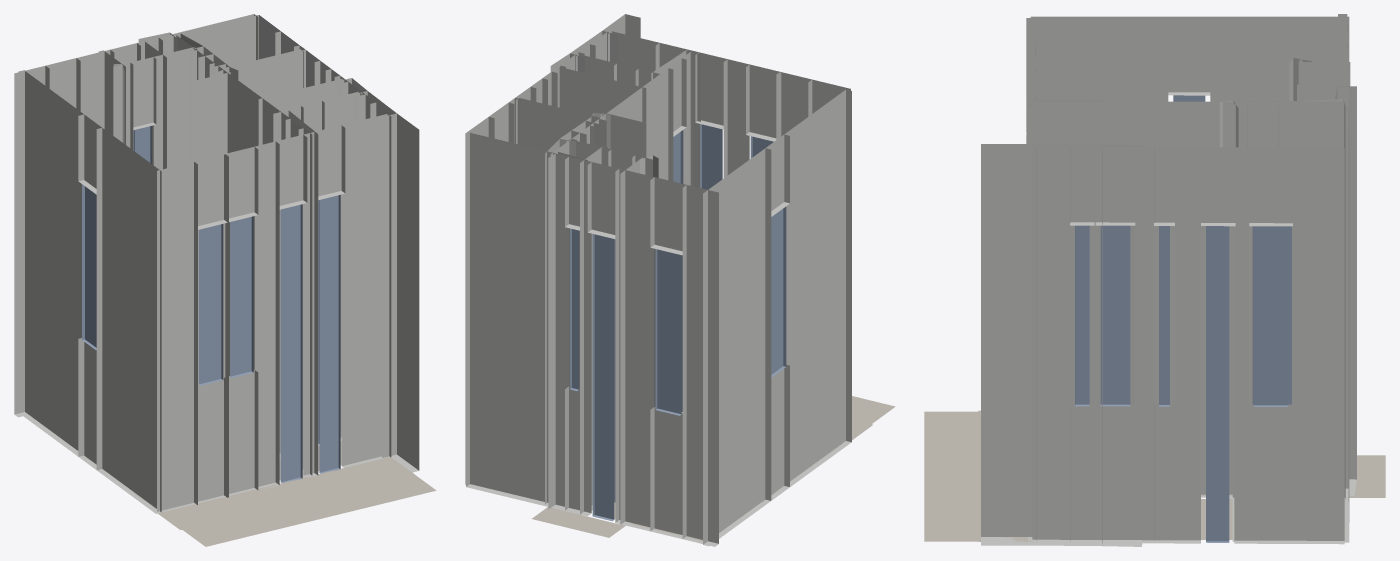
File: plan2scene_vector_house.glb
The picture shows the model from 3 angles, left to right: view 1: azimuth 30°, elevation 25°; view 2: azimuth 150°, elevation 25°; view 3: azimuth 270°, elevation 25°; orthographic projection. The views are drawn at different scales.
Visible parts, largest first — view 1: walls, doors_windows, floor; view 2: walls, doors_windows, floor; view 3: walls, doors_windows, floor.
Boxes of the visible parts, x1,y1,x2,y2 form: walls: (14, 14, 419, 513); doors_windows: (82, 126, 340, 482); floor: (83, 437, 436, 546); walls: (465, 14, 851, 546); doors_windows: (570, 124, 786, 521); floor: (532, 396, 895, 541); walls: (981, 14, 1356, 546); doors_windows: (1075, 95, 1291, 542); floor: (924, 410, 1385, 541).
Size of the model in its own units: 198 by 260 by 277.
